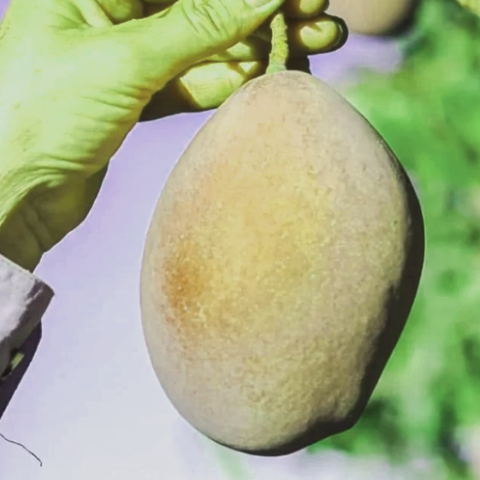mango: (116, 55, 460, 461)
